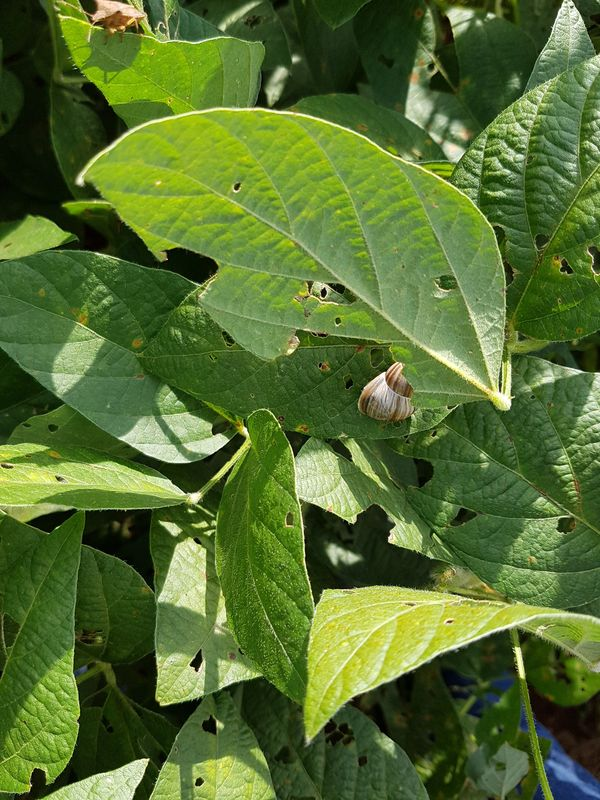Euschistus_heros_adulto: (56, 1, 156, 56)
Gastropoda: (347, 348, 431, 436)
